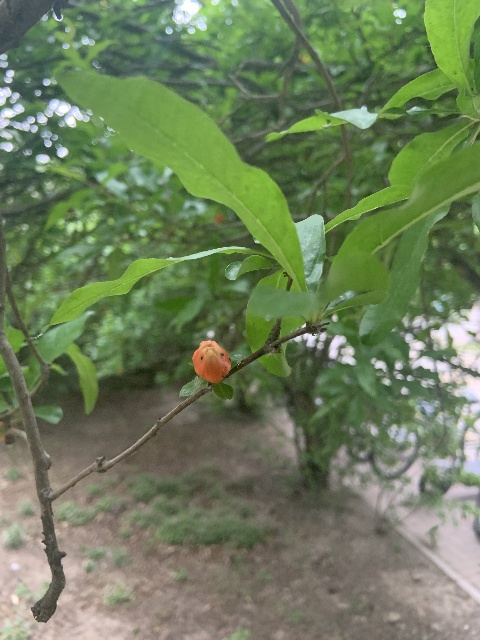bud: (192, 340, 230, 383)
